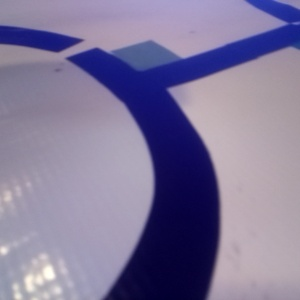top_left: (239, 174, 300, 300)
